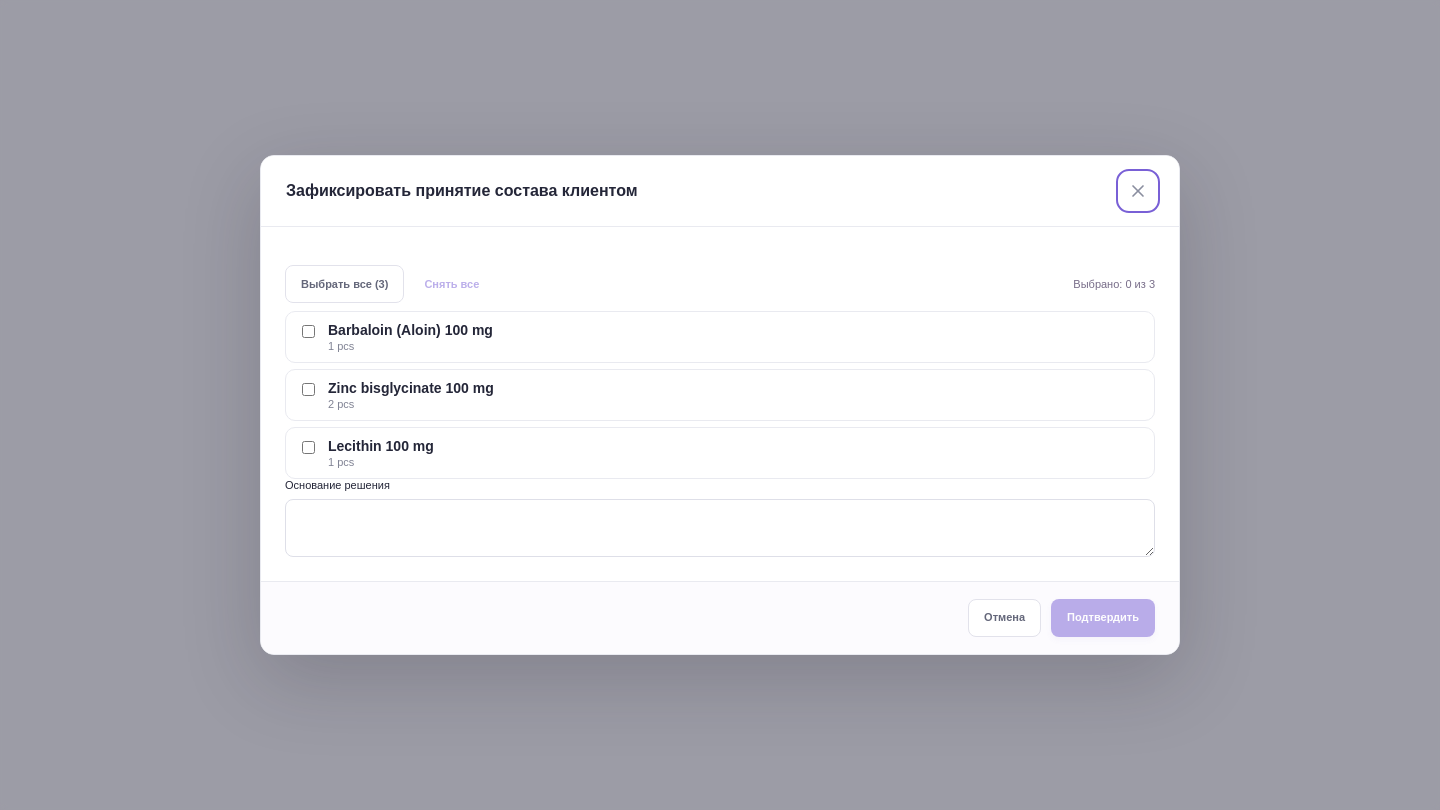
it: chooses every position the client accepted at once
The image size is (1440, 810).
Later steps or results of the test are not shown.
Expected: the text "Выбрано: 0 из 3" is shown, [1073, 278, 1155, 290]
Click the button "Выбрать все (3)". click: (345, 284)
box: [285, 265, 404, 303]
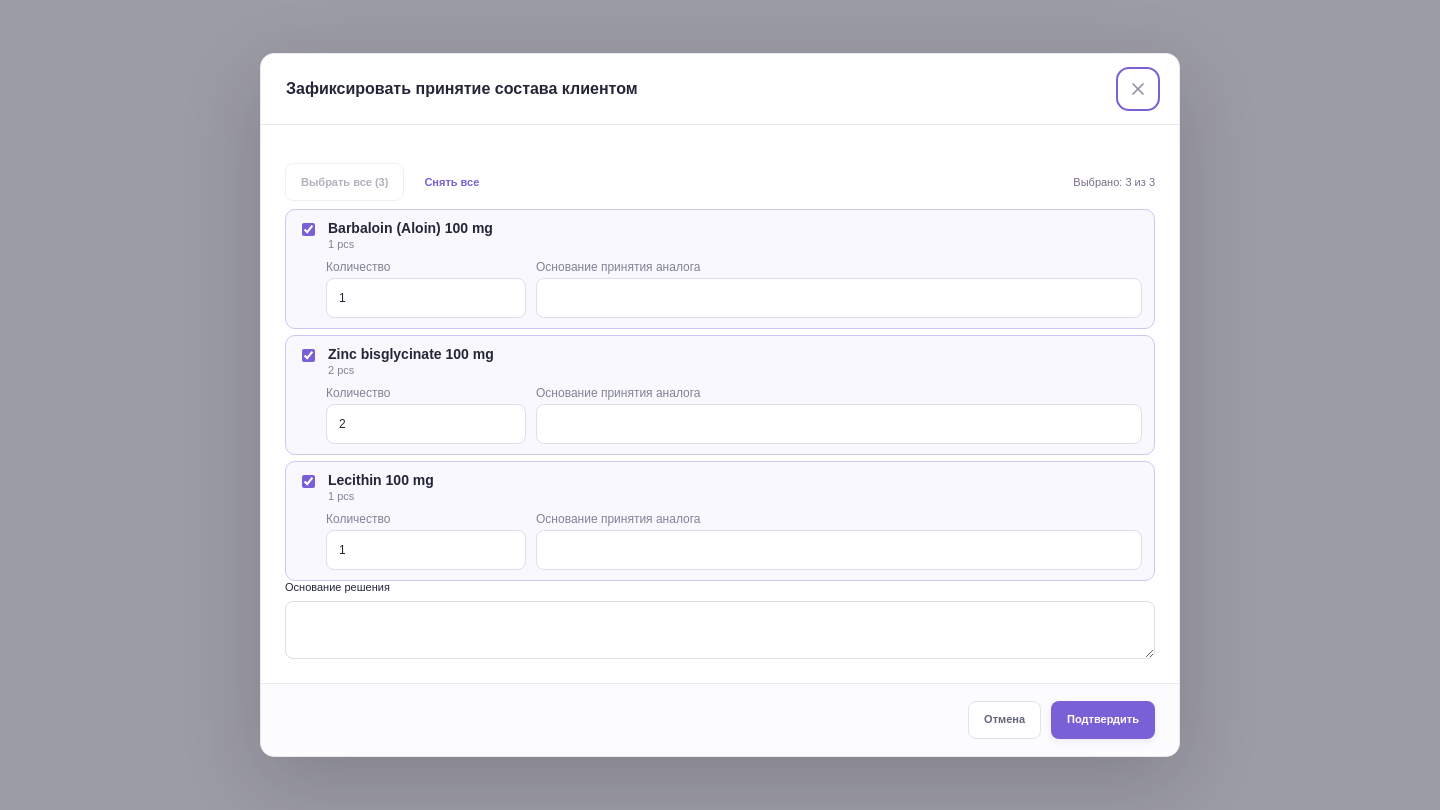
Now the text "Выбрано: 3 из 3" is shown, box [1073, 176, 1155, 188]
Click the button "Снять все". click: (452, 182)
box: [414, 168, 489, 196]
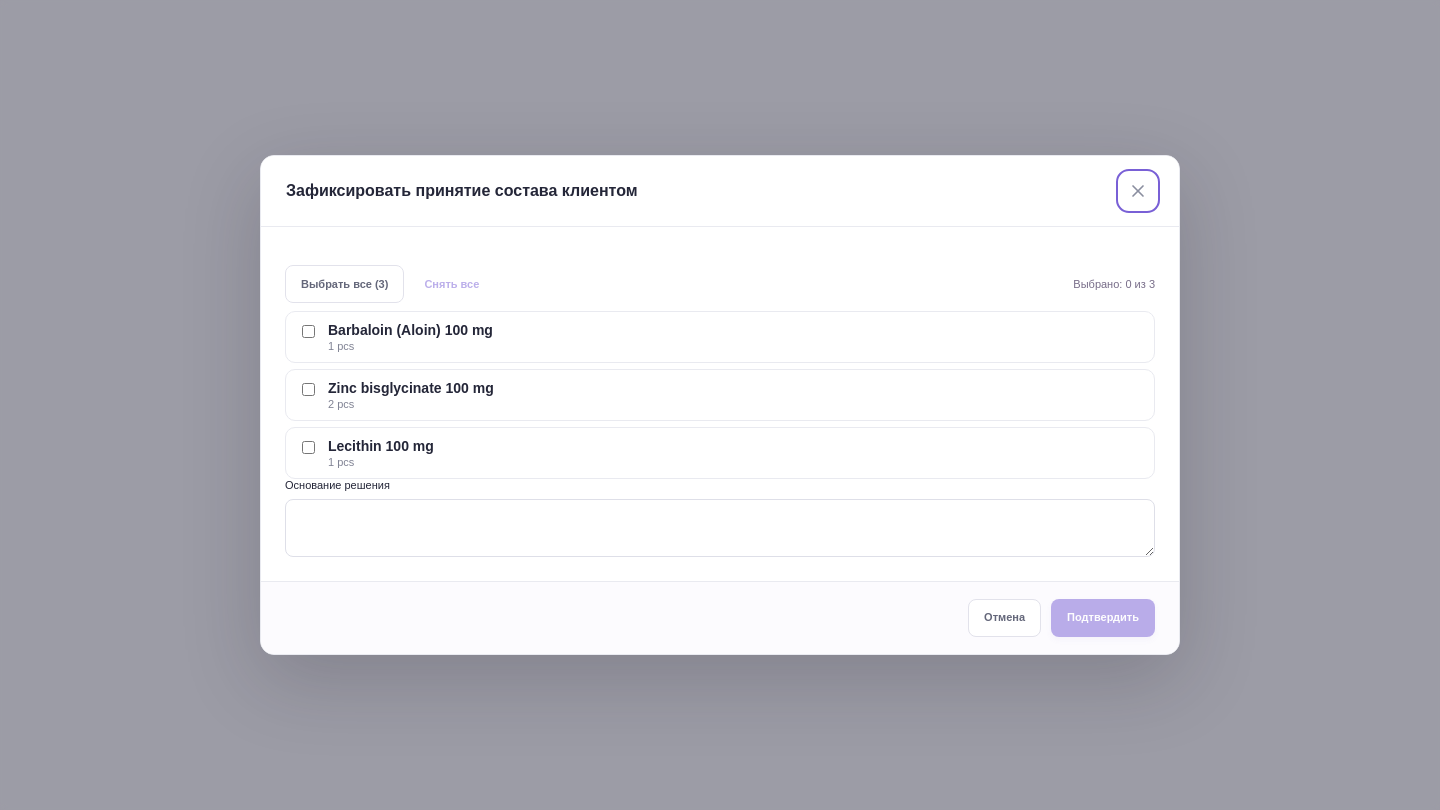
Now the text "Выбрано: 0 из 3" is shown, box [1073, 278, 1155, 290]
